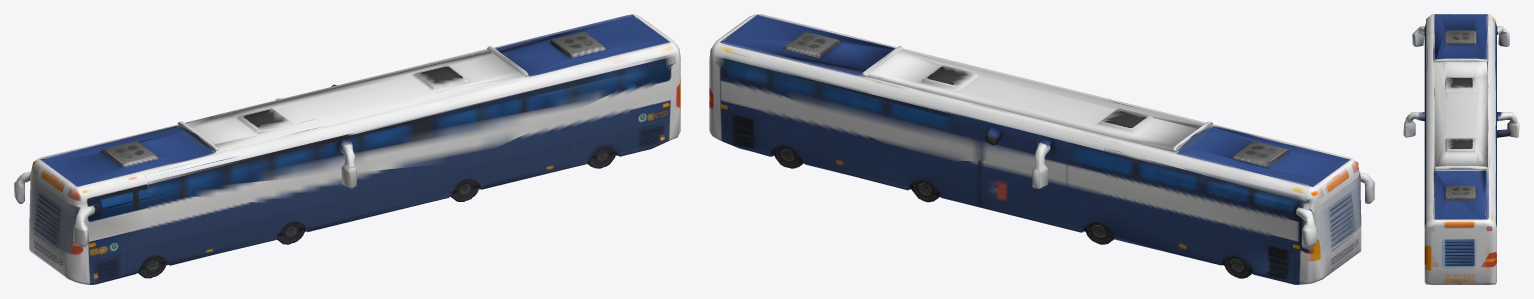
File: bus.glb
3 views of the same model, side by side, from view 1: azimuth 30°, elevation 25°; view 2: azimuth 150°, elevation 25°; view 3: azimuth 270°, elevation 25° (orthographic). The views are drawn at different scales.
Bounding box in the file's own units: 2 × 0.3409 × 0.4641.
Materials: 1 (1 with a texture image).
